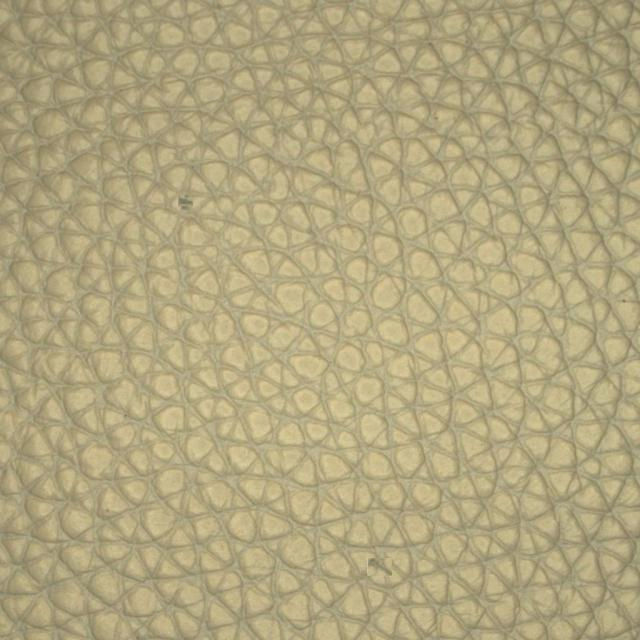pinhole: (123, 109, 242, 308), (296, 502, 473, 623)
